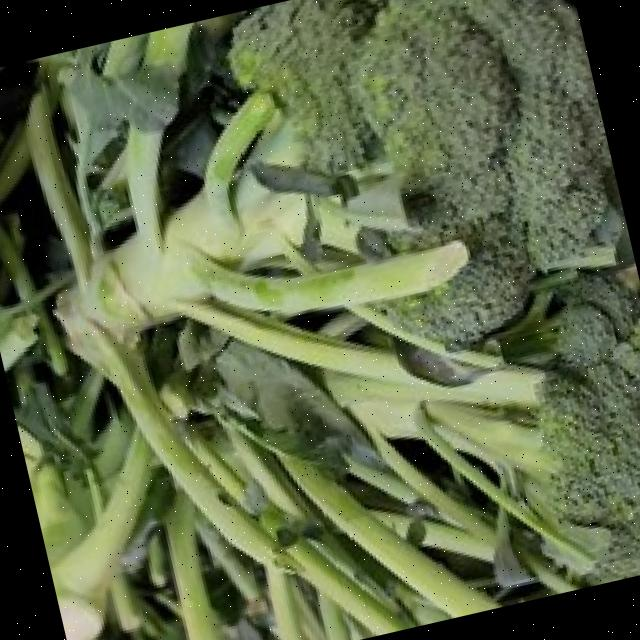Broccoli: (234, 0, 611, 343), (233, 0, 611, 342), (538, 273, 640, 584), (538, 274, 640, 584)
